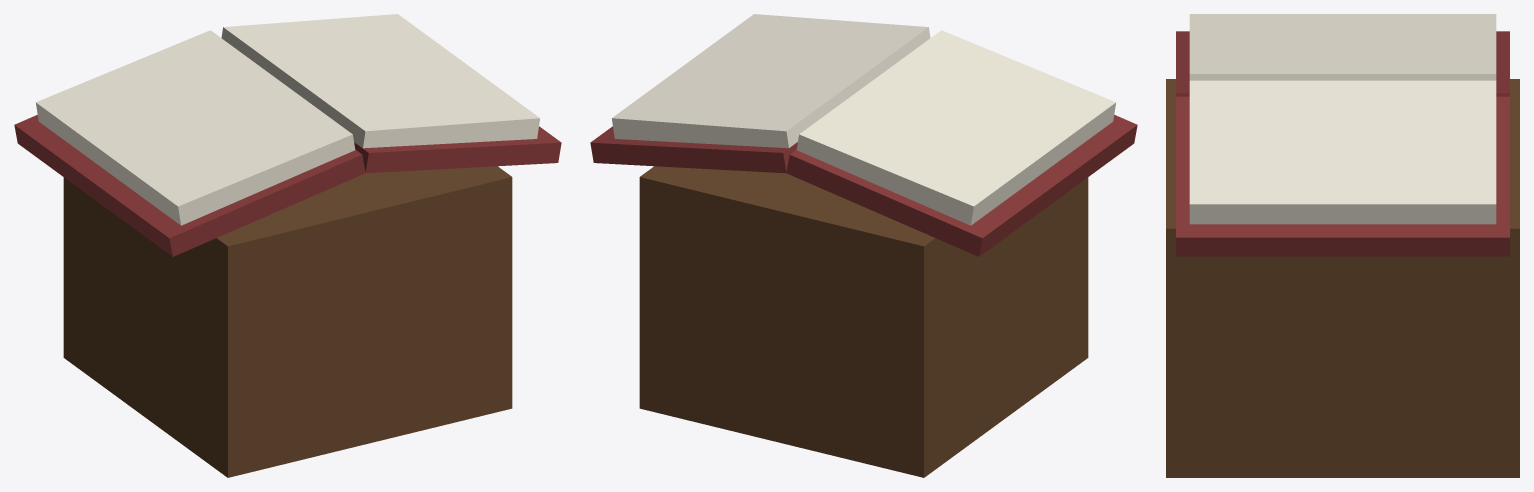
File: big_book.glb
3 views of the same model, side by side, from view 1: azimuth 30°, elevation 25°; view 2: azimuth 150°, elevation 25°; view 3: azimuth 270°, elevation 25° (orthographic). The views are drawn at different scales.
Visible parts, largest first — view 1: big_book_mesh; view 2: big_book_mesh; view 3: big_book_mesh.
Part boxes in pixels (x1,y1,x2,y2): big_book_mesh: (14, 14, 561, 477); big_book_mesh: (590, 14, 1137, 477); big_book_mesh: (1166, 14, 1519, 477).
Size of the model in its own units: 1.24 by 0.9141 by 0.9.
